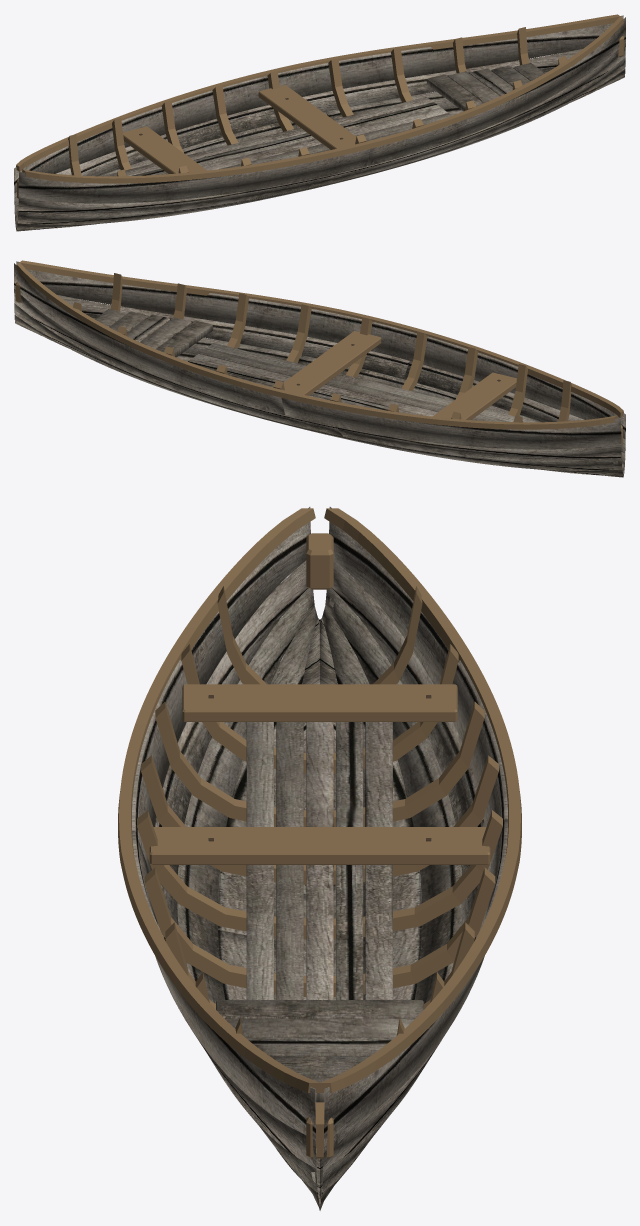
File: river-boat.glb
3 views of the same model, one above another, from view 1: azimuth 30°, elevation 25°; view 2: azimuth 150°, elevation 25°; view 3: azimuth 270°, elevation 25° (orthographic). The views are drawn at different scales.
Visible parts, largest first — view 1: 船壳逐条拼板、舱底铺板, 厚船舷、横肋和船头端木; view 2: 船壳逐条拼板、舱底铺板, 厚船舷、横肋和船头端木; view 3: 船壳逐条拼板、舱底铺板, 厚船舷、横肋和船头端木.
Boxes of the visible parts, x1=… form: 船壳逐条拼板、舱底铺板: x1=14, y1=15, x2=625, y2=231; 厚船舷、横肋和船头端木: x1=16, y1=14, x2=624, y2=198; 船壳逐条拼板、舱底铺板: x1=14, y1=261, x2=625, y2=477; 厚船舷、横肋和船头端木: x1=15, y1=260, x2=623, y2=444; 船壳逐条拼板、舱底铺板: x1=132, y1=507, x2=507, y2=1210; 厚船舷、横肋和船头端木: x1=118, y1=508, x2=521, y2=1158.
Size of the model in its own units: 5.82 by 0.7348 by 1.68.
3 materials, 1 textured.
